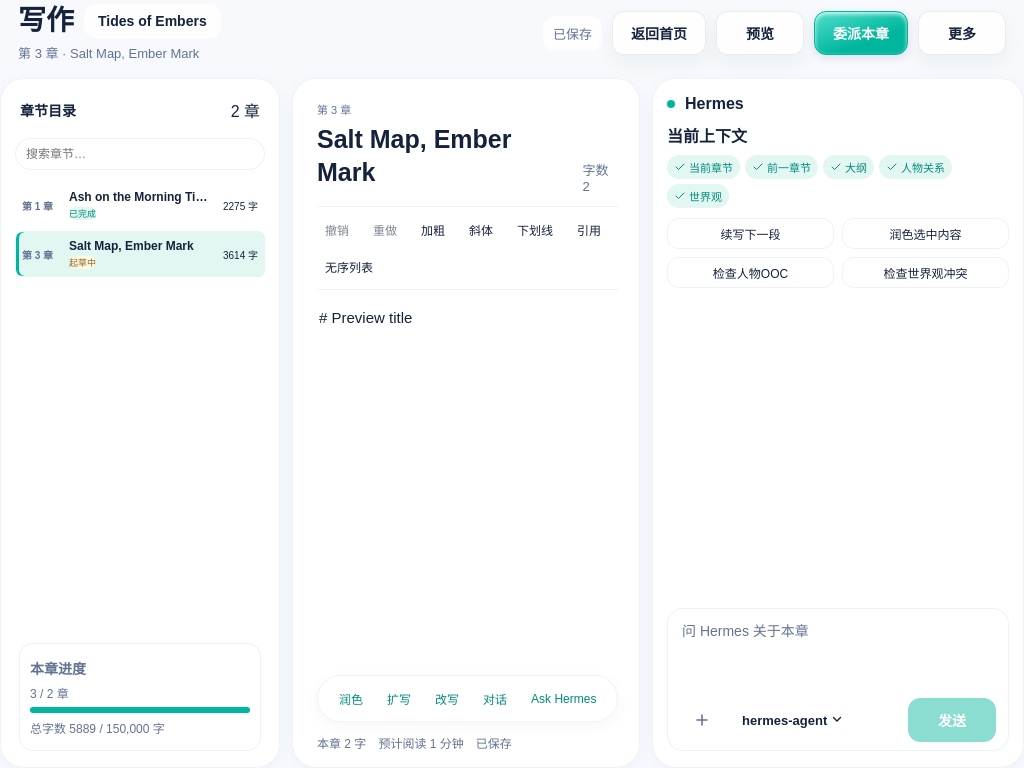
Test: WritingView › uses the route header as the only preview control
This screenshot has width=1024, height=768.
Expected: the text box named "章节正文" is shown, [317, 302, 618, 663]
Expected: the header with class "bixin-writing__bar" is shown, [0, 0, 1023, 66]
Click the button "预览": click(760, 33) [716, 11, 804, 55]
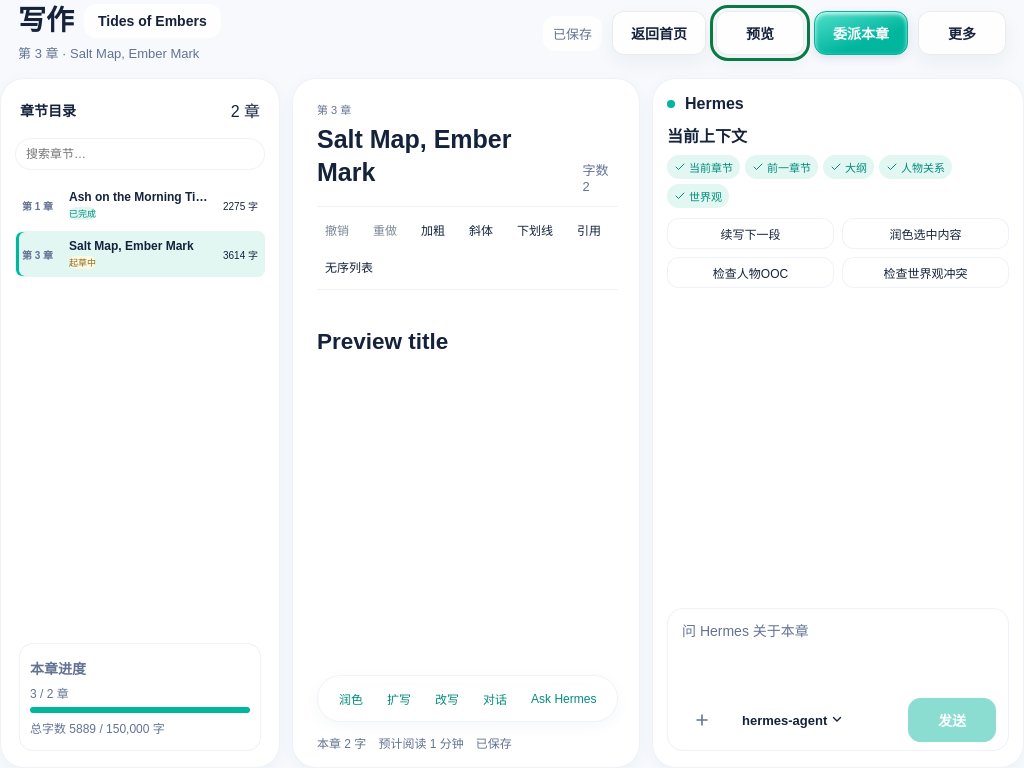
Result: the heading "Preview title" is shown at [317, 329, 448, 354]
